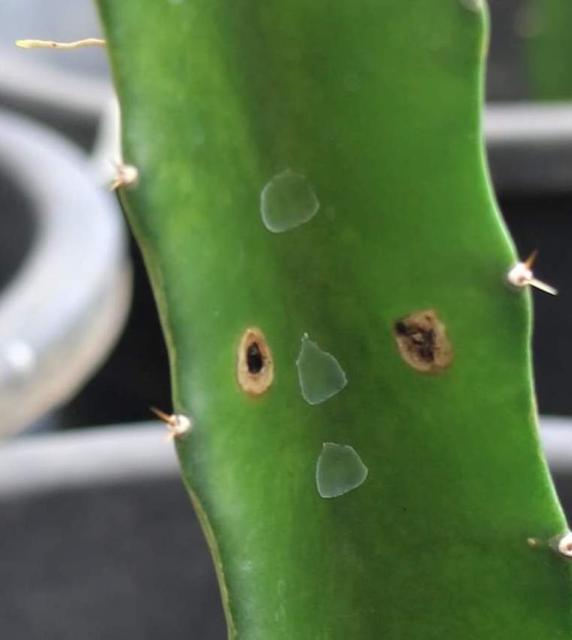stemcanker: (383, 303, 462, 383), (226, 322, 282, 407)
